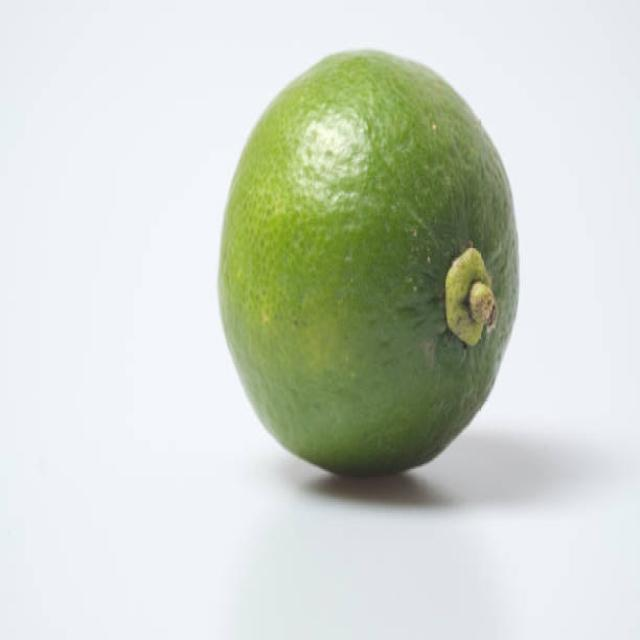Lemon: (215, 45, 522, 481)
